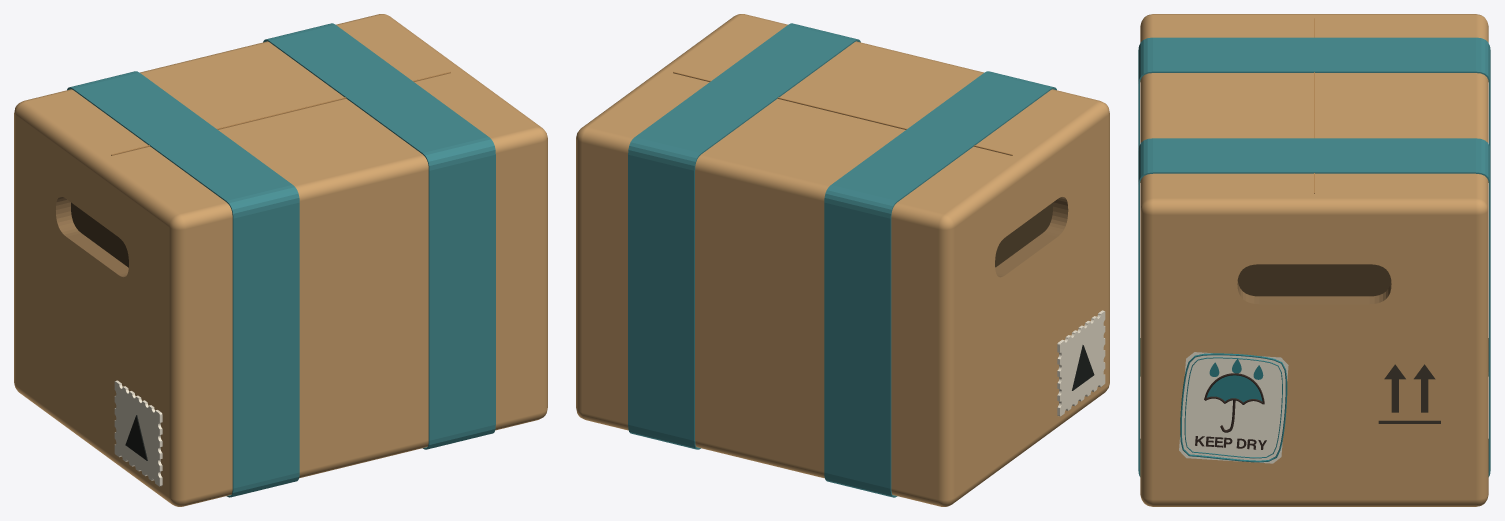
File: play-parcel-large-teal.glb
The picture shows the model from 3 angles, left to right: view 1: azimuth 30°, elevation 25°; view 2: azimuth 150°, elevation 25°; view 3: azimuth 270°, elevation 25°; orthographic projection. The views are drawn at different scales.
Visible parts, largest first — view 1: Parcel_Carton, Parcel_Tape_Parallel_1, Parcel_Tape_Parallel_2, Parcel_Paper_Label, Parcel_Carry_Slot_Walls_Negative_X, Parcel_Carry_Slot_Interior_Negative_X; view 2: Parcel_Carton, Parcel_Tape_Parallel_1, Parcel_Tape_Parallel_2, Parcel_Paper_Label, Parcel_Carry_Slot_Walls_Negative_X, Parcel_Carry_Slot_Interior_Negative_X; view 3: Parcel_Carton, Parcel_Tape_Parallel_2, Parcel_Tape_Parallel_1, Parcel_Care_D3_Paper, Parcel_Carry_Slot_Interior_Positive_X, Parcel_Carry_Slot_Walls_Positive_X, Parcel_Up_Arrows_Positive_X, Parcel_Care_D3_Umbrella_Canopy, Parcel_Care_D3_Teal_Border_0, Parcel_Care_D3_Teal_Border_1, Parcel_Care_D3_Keep_Dry_Text, Parcel_Care_D3_Umbrella_Outline.
Boxes of the visible parts, left/top/right/bottom form: Parcel_Carton: left=14, top=14, right=547, bottom=506; Parcel_Tape_Parallel_1: left=67, top=71, right=299, bottom=497; Parcel_Tape_Parallel_2: left=263, top=23, right=495, bottom=449; Parcel_Paper_Label: left=114, top=380, right=162, bottom=486; Parcel_Carry_Slot_Walls_Negative_X: left=56, top=196, right=128, bottom=277; Parcel_Carry_Slot_Interior_Negative_X: left=71, top=202, right=128, bottom=267; Parcel_Carton: left=576, top=14, right=1109, bottom=506; Parcel_Tape_Parallel_1: left=824, top=71, right=1056, bottom=497; Parcel_Tape_Parallel_2: left=628, top=23, right=860, bottom=449; Parcel_Paper_Label: left=1057, top=310, right=1105, bottom=416; Parcel_Carry_Slot_Walls_Negative_X: left=995, top=197, right=1068, bottom=277; Parcel_Carry_Slot_Interior_Negative_X: left=995, top=202, right=1052, bottom=267; Parcel_Carton: left=1140, top=14, right=1488, bottom=506; Parcel_Tape_Parallel_2: left=1138, top=138, right=1490, bottom=476; Parcel_Tape_Parallel_1: left=1138, top=37, right=1490, bottom=376; Parcel_Care_D3_Paper: left=1179, top=352, right=1288, bottom=463; Parcel_Carry_Slot_Interior_Positive_X: left=1237, top=264, right=1391, bottom=296; Parcel_Carry_Slot_Walls_Positive_X: left=1237, top=281, right=1391, bottom=304; Parcel_Up_Arrows_Positive_X: left=1378, top=364, right=1440, bottom=423; Parcel_Care_D3_Umbrella_Canopy: left=1206, top=375, right=1262, bottom=402; Parcel_Care_D3_Teal_Border_0: left=1180, top=353, right=1287, bottom=462; Parcel_Care_D3_Teal_Border_1: left=1184, top=357, right=1282, bottom=458; Parcel_Care_D3_Keep_Dry_Text: left=1195, top=436, right=1266, bottom=449; Parcel_Care_D3_Umbrella_Outline: left=1204, top=373, right=1264, bottom=404.
Size of the model in its own units: 0.255 by 0.187 by 0.192.
